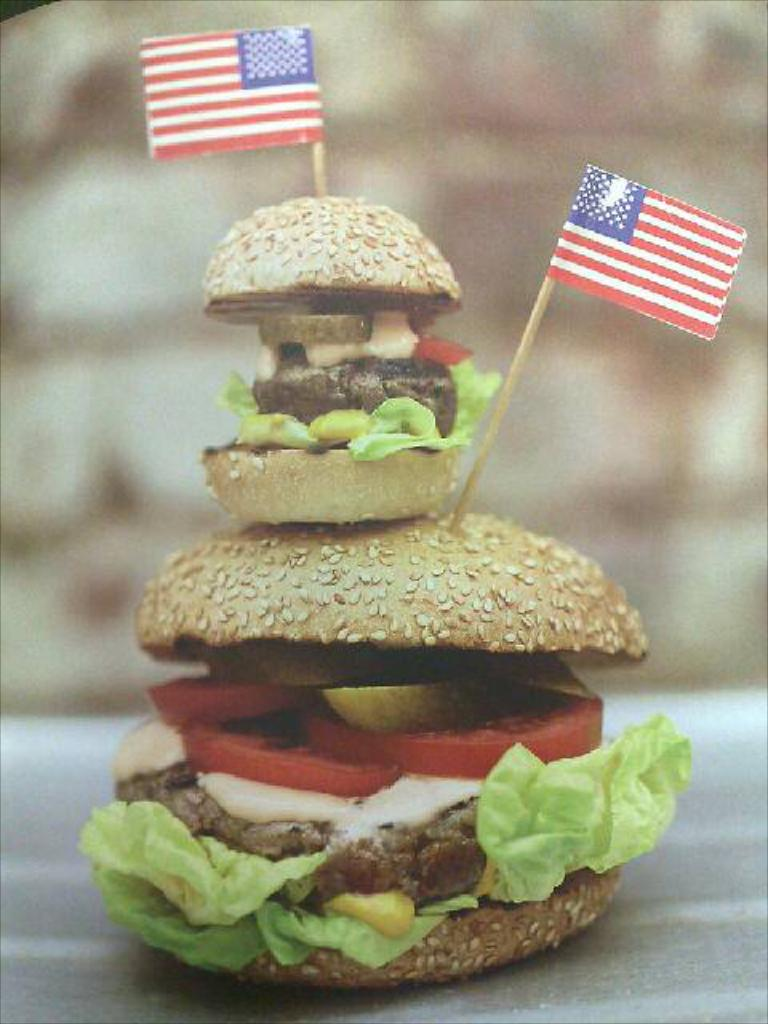Hamburger: (62, 518, 692, 977), (172, 182, 451, 519)
